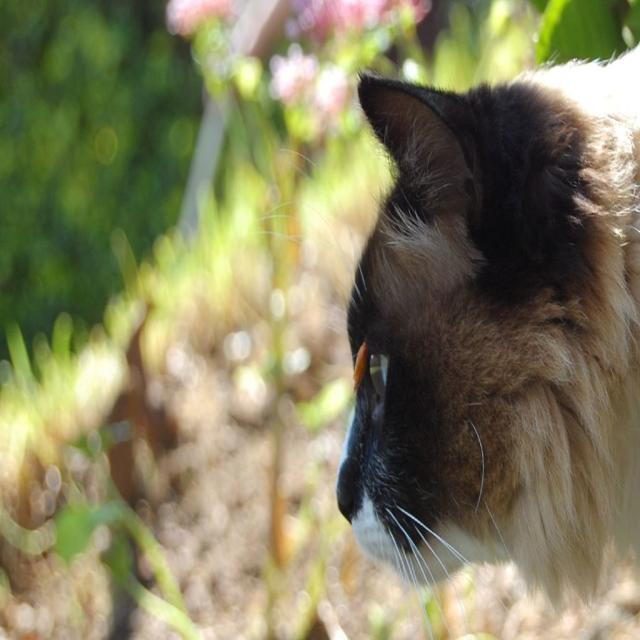Cat: (240, 35, 639, 638)
